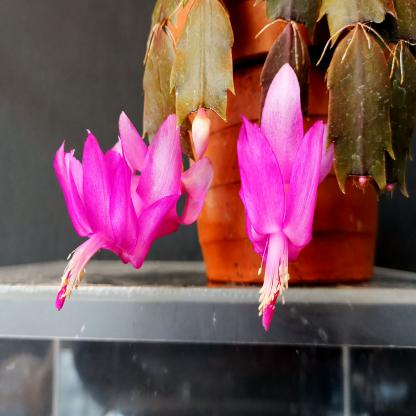Aglonema: (73, 18, 329, 351), (315, 4, 416, 364)
